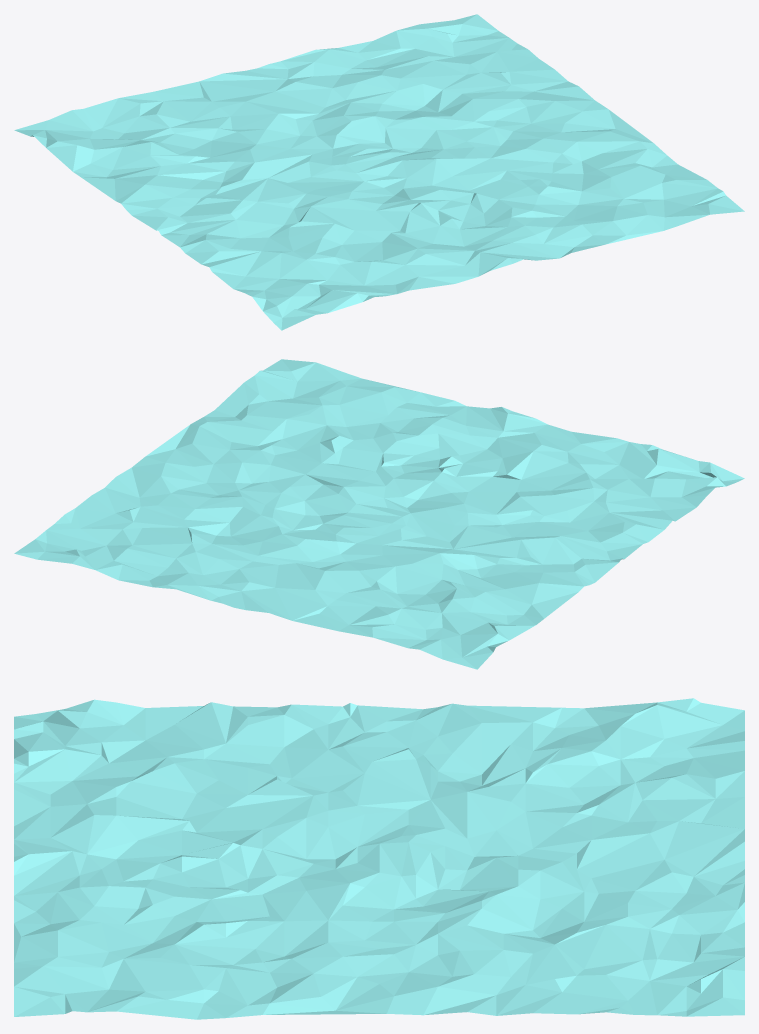
Rendered from Water.fbx.
3 renders of one model, top to bottom at view 1: azimuth 30°, elevation 25°; view 2: azimuth 150°, elevation 25°; view 3: azimuth 270°, elevation 25°, orthographic. The views are drawn at different scales.
Visible parts, largest first — view 1: water; view 2: water; view 3: water.
Part boxes in pixels (<box>): water: <box>14,14,744,330</box>; water: <box>14,359,744,669</box>; water: <box>14,698,744,1019</box>.
Size of the model in its own units: 1000 by 31.1 by 1000.
